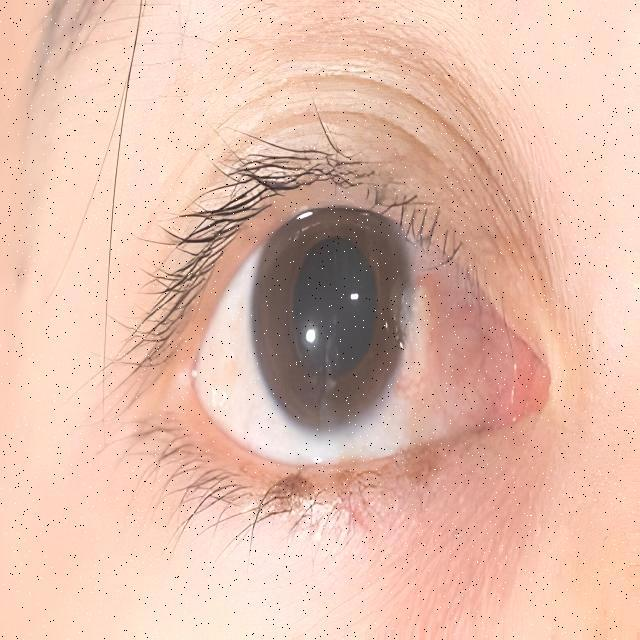Pterygium: (386, 262, 526, 436)
